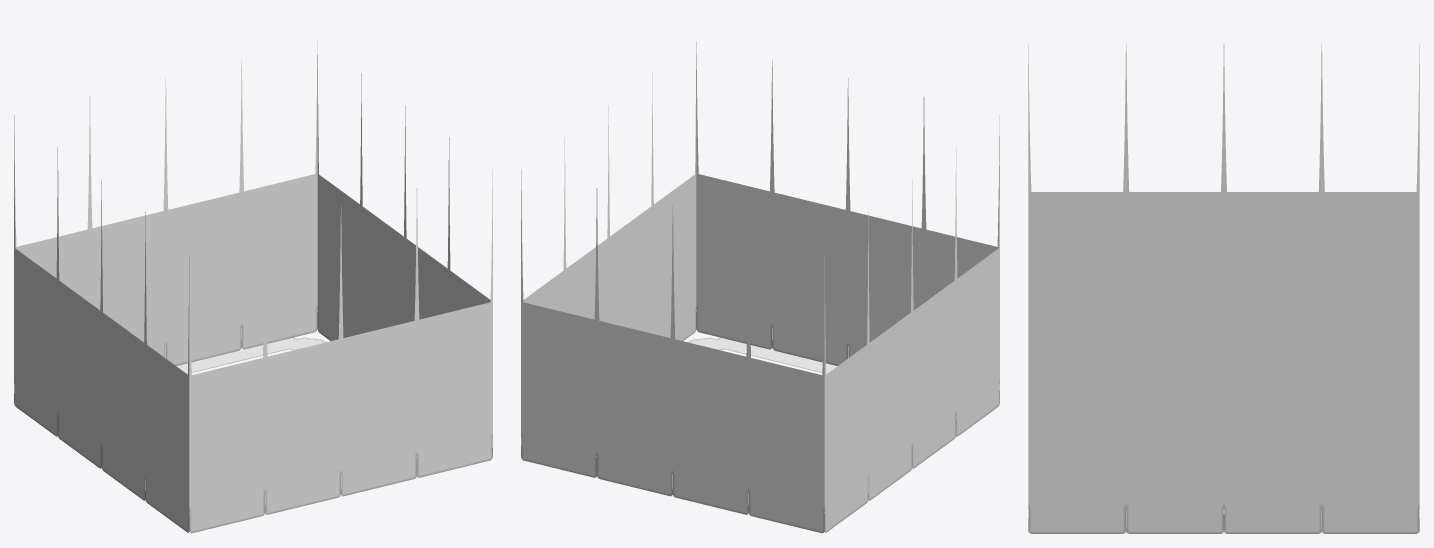
Rendered from Reticle.obj.
3 renders of one model, left to right at view 1: azimuth 30°, elevation 25°; view 2: azimuth 150°, elevation 25°; view 3: azimuth 270°, elevation 25°, orthographic. The views are drawn at different scales.
Visible parts, largest first — view 1: Default; view 2: Default; view 3: Default.
Boxes of the visible parts, box(x1,y1,x2,y2) form: Default: box(14, 41, 492, 533); Default: box(521, 41, 999, 533); Default: box(1028, 44, 1419, 533).
Bounding box in the file's own units: 4 × 4 × 4.
1 material, 1 textured.
